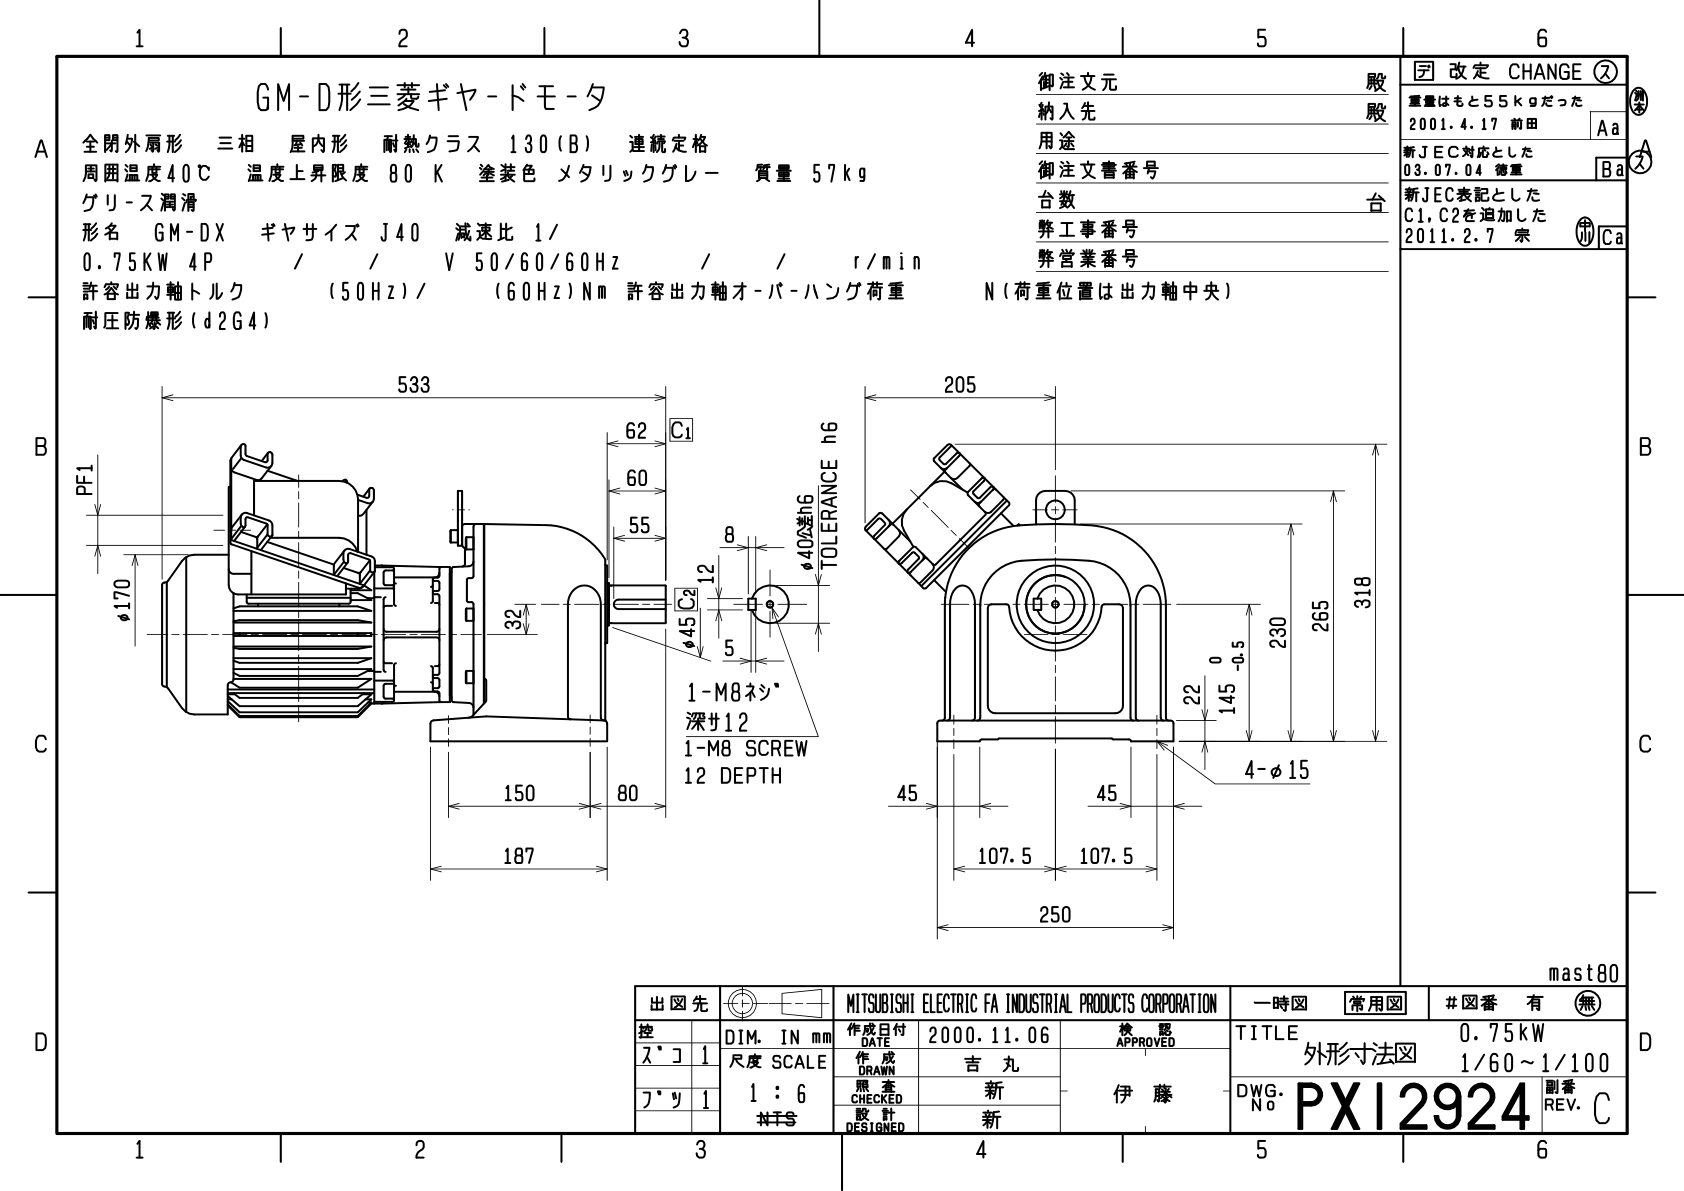GM_D_耐圧屋内_三相_脚: (9, 5, 1684, 1191)
